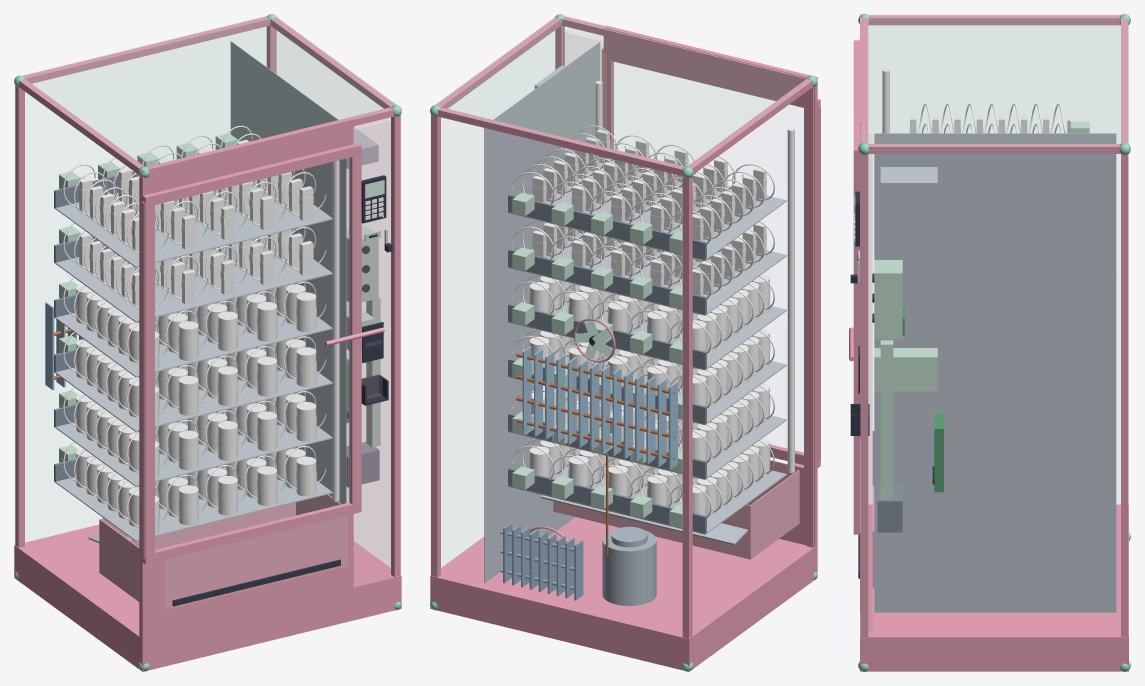
Rendered from vend.glb.
3 renders of one model, left to right at view 1: azimuth 30°, elevation 25°; view 2: azimuth 150°, elevation 25°; view 3: azimuth 270°, elevation 25°, orthographic. The views are drawn at different scales.
Parts seen in each view (by area): view 1: vend_authored_teaching_model; view 2: vend_authored_teaching_model; view 3: vend_authored_teaching_model.
Part boxes in pixels (x1=…): vend_authored_teaching_model: x1=14, y1=14, x2=401, y2=671; vend_authored_teaching_model: x1=430, y1=14, x2=820, y2=671; vend_authored_teaching_model: x1=849, y1=14, x2=1130, y2=671.
Bounding box in the file's own units: 1 × 1.84 × 0.891.
